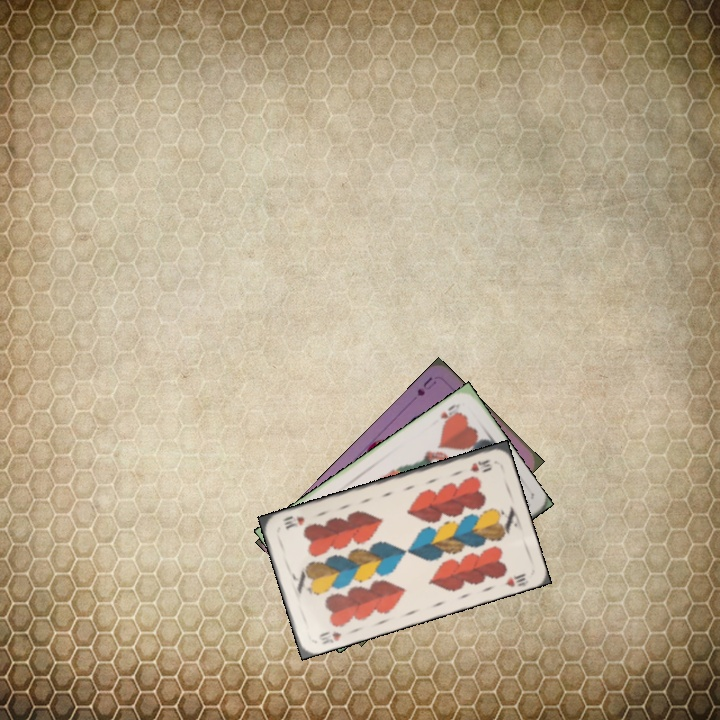H10: (466, 455, 495, 475), (315, 627, 344, 647)
HO: (436, 399, 463, 428)
SU: (413, 372, 439, 399)
